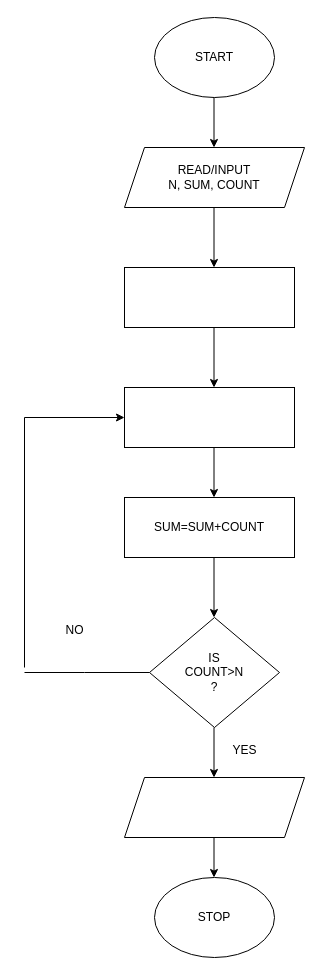
This 322x975 diagram has some shape labels left out. The shapes that lost their labels are listed below. From the top down, each one's box as (x1, y1, x2, y2) in pixels, then its label:
(124, 266, 294, 328): SUM=0 COUNT=0
(124, 386, 294, 448): COUNT=COUNT+1
(124, 776, 304, 838): DISPLAY SUM
